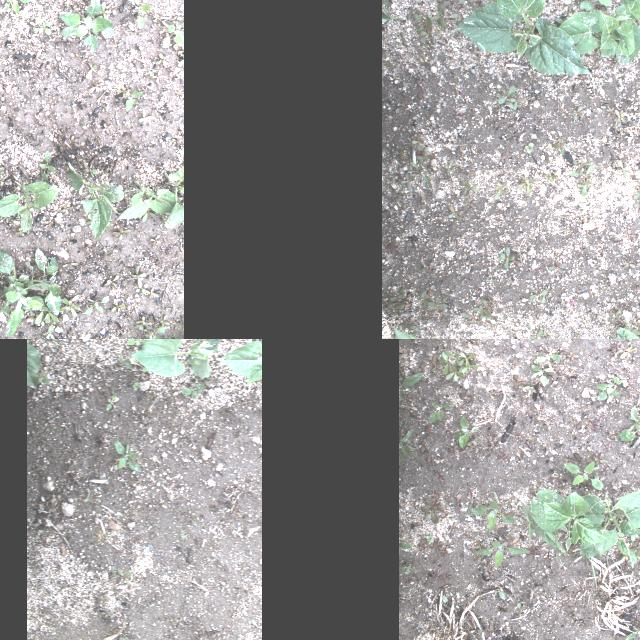crop: (454, 0, 590, 74), (558, 0, 640, 66), (520, 487, 604, 551), (63, 160, 125, 246), (580, 494, 640, 570), (129, 339, 228, 379), (0, 180, 59, 234), (220, 339, 262, 405), (27, 342, 41, 390), (382, 9, 390, 23)
weed: (0, 244, 58, 335), (112, 164, 182, 236), (54, 0, 111, 58), (468, 493, 516, 532), (475, 538, 529, 566), (562, 460, 602, 490), (31, 307, 67, 339), (115, 438, 145, 474), (124, 0, 158, 30), (616, 409, 640, 451), (569, 158, 595, 196), (452, 416, 480, 448), (158, 15, 182, 50), (40, 148, 59, 192), (147, 308, 173, 337), (495, 85, 523, 111), (52, 296, 82, 320), (0, 0, 38, 18), (596, 376, 622, 402), (107, 564, 131, 592), (420, 497, 444, 525), (26, 15, 54, 38), (407, 162, 431, 188), (433, 5, 459, 27), (428, 400, 454, 422), (398, 428, 414, 462), (129, 266, 147, 294), (83, 294, 109, 312), (125, 92, 142, 118), (134, 312, 156, 332), (472, 299, 494, 319), (530, 365, 552, 385), (428, 15, 444, 41), (182, 384, 208, 400), (438, 352, 454, 376), (398, 373, 424, 387), (516, 178, 536, 196), (624, 618, 640, 640), (554, 131, 568, 155), (579, 0, 612, 10), (139, 110, 157, 128), (497, 247, 515, 265), (446, 366, 466, 382), (529, 290, 551, 304), (534, 352, 562, 363), (416, 146, 432, 164), (32, 370, 49, 386), (420, 27, 434, 46), (411, 132, 424, 152), (617, 160, 631, 178), (385, 302, 403, 316), (427, 296, 448, 308), (495, 180, 507, 200), (150, 70, 166, 84), (459, 180, 475, 194), (400, 173, 414, 189), (417, 17, 431, 33), (388, 288, 404, 302), (420, 262, 434, 278), (458, 388, 472, 404), (460, 351, 474, 367), (621, 347, 639, 359), (448, 205, 460, 222), (452, 138, 466, 152), (156, 54, 172, 66), (624, 323, 640, 335), (105, 394, 117, 410), (249, 617, 262, 631), (422, 291, 431, 311), (122, 339, 144, 347), (614, 110, 626, 124), (408, 6, 420, 20), (513, 374, 525, 388), (399, 566, 415, 576), (522, 384, 538, 394), (466, 437, 482, 447), (109, 634, 135, 640), (487, 436, 498, 450), (609, 310, 621, 322), (460, 365, 478, 373), (444, 158, 454, 172), (530, 329, 544, 339), (572, 106, 582, 120), (442, 0, 457, 9), (447, 350, 458, 362), (398, 390, 406, 406), (524, 142, 534, 154), (496, 588, 506, 600), (438, 547, 450, 557), (635, 179, 640, 202), (398, 542, 412, 550), (566, 351, 580, 359), (470, 339, 486, 346), (418, 438, 426, 452), (130, 382, 140, 393), (482, 571, 493, 581), (560, 371, 570, 381), (629, 531, 640, 540), (606, 106, 614, 118), (440, 596, 448, 608), (438, 575, 452, 581), (547, 172, 555, 182), (424, 534, 434, 542), (531, 551, 539, 561), (430, 362, 438, 372), (634, 200, 640, 213), (635, 543, 640, 558), (624, 262, 636, 268), (454, 0, 472, 4), (382, 0, 392, 7), (541, 331, 549, 339), (564, 6, 572, 14), (476, 540, 484, 548), (556, 18, 566, 24), (452, 522, 456, 536), (485, 279, 497, 283), (600, 104, 606, 110), (516, 602, 522, 608), (618, 72, 624, 76), (553, 395, 557, 401)
